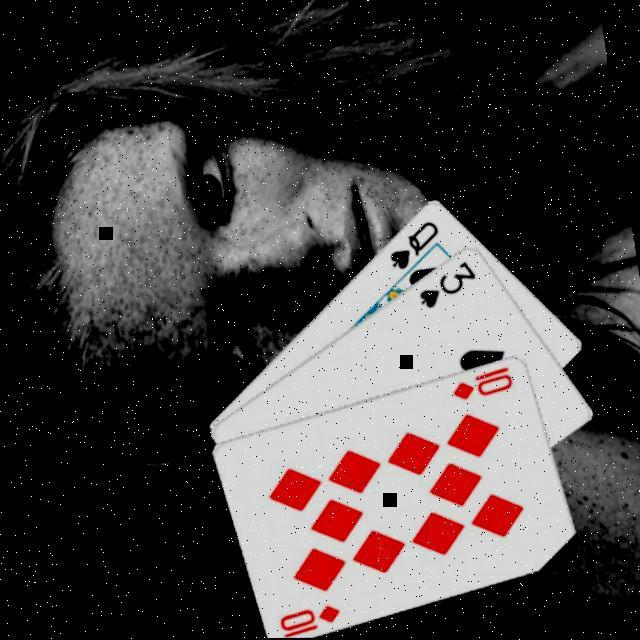10D: (446, 363, 516, 405), (272, 601, 344, 638)
3S: (410, 257, 482, 315)
QS: (381, 216, 446, 276)
